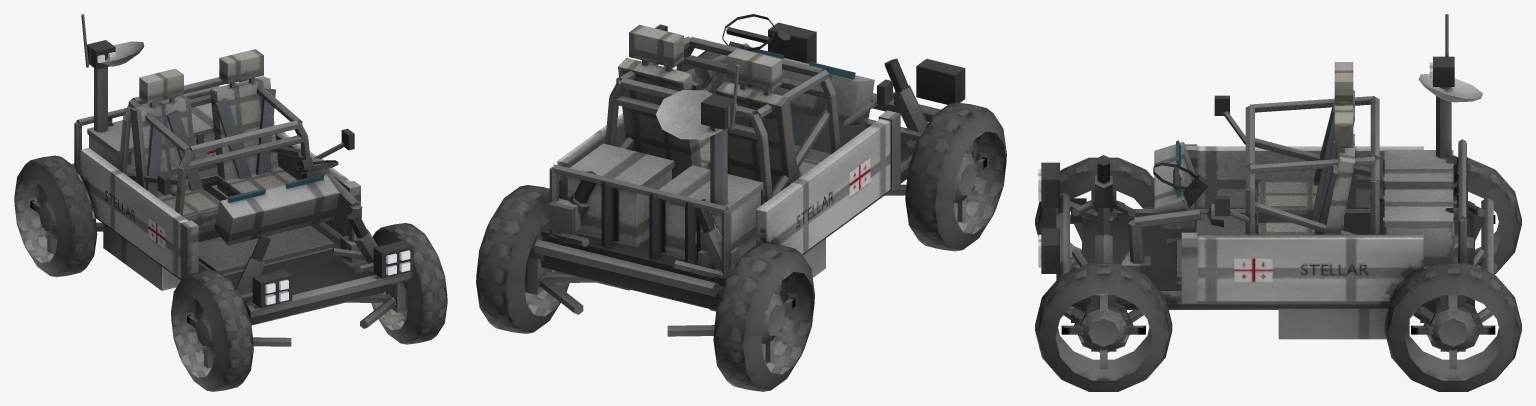
Rendered from rover.glb.
3 views of the same model, side by side, from view 1: azimuth 30°, elevation 25°; view 2: azimuth 150°, elevation 25°; view 3: azimuth 270°, elevation 25° (orthographic). The views are drawn at different scales.
Parts seen in each view (by area): view 1: Rover_Body, Wheel_RF_Mesh, Wheel_RR_Mesh, Wheel_LF_Mesh, Mast_Mesh, Arm_LF_Mesh, Arm_RF_Mesh, ToolArm_Mesh, ToolFore_Mesh, Steer_LF_Mesh; view 2: Rover_Body, Wheel_RR_Mesh, Wheel_RF_Mesh, Wheel_LR_Mesh, Mast_Mesh, Arm_RR_Mesh, Arm_LR_Mesh, Arm_RF_Mesh, Steer_LR_Mesh, ToolFore_Mesh; view 3: Rover_Body, Wheel_LF_Mesh, Wheel_LR_Mesh, Wheel_RF_Mesh, Wheel_RR_Mesh, Mast_Mesh, Arm_RF_Mesh, Arm_LF_Mesh, ToolFore_Mesh, Steer_LR_Mesh, Steer_LF_Mesh, ToolArm_Mesh (+2 smaller).
Part boxes in pixels (bbox=[...]): Rover_Body: bbox=[71, 49, 413, 325]; Wheel_RF_Mesh: bbox=[171, 270, 253, 391]; Wheel_RR_Mesh: bbox=[14, 155, 97, 277]; Wheel_LF_Mesh: bbox=[371, 223, 447, 344]; Mast_Mesh: bbox=[81, 14, 144, 131]; Arm_LF_Mesh: bbox=[332, 212, 395, 328]; Arm_RF_Mesh: bbox=[235, 234, 291, 346]; ToolArm_Mesh: bbox=[340, 205, 365, 263]; ToolFore_Mesh: bbox=[312, 158, 359, 207]; Steer_LF_Mesh: bbox=[386, 280, 408, 312]; Rover_Body: bbox=[534, 14, 965, 311]; Wheel_RR_Mesh: bbox=[713, 243, 814, 391]; Wheel_RF_Mesh: bbox=[905, 102, 1006, 251]; Wheel_LR_Mesh: bbox=[476, 185, 569, 333]; Mast_Mesh: bbox=[655, 64, 739, 205]; Arm_RR_Mesh: bbox=[667, 199, 736, 336]; Arm_LR_Mesh: bbox=[539, 171, 600, 314]; Arm_RF_Mesh: bbox=[865, 58, 928, 195]; Steer_LR_Mesh: bbox=[524, 220, 551, 295]; ToolFore_Mesh: bbox=[686, 43, 750, 89]; Rover_Body: bbox=[1038, 62, 1493, 339]; Wheel_LF_Mesh: bbox=[1035, 263, 1172, 391]; Wheel_LR_Mesh: bbox=[1384, 263, 1521, 391]; Wheel_RF_Mesh: bbox=[1035, 157, 1154, 271]; Wheel_RR_Mesh: bbox=[1468, 157, 1521, 274]; Mast_Mesh: bbox=[1418, 14, 1482, 158]; Arm_RF_Mesh: bbox=[1070, 155, 1135, 270]; Arm_LF_Mesh: bbox=[1064, 208, 1143, 322]; ToolFore_Mesh: bbox=[1134, 203, 1223, 227]; Steer_LR_Mesh: bbox=[1420, 295, 1482, 352]; Steer_LF_Mesh: bbox=[1071, 295, 1133, 352]; ToolArm_Mesh: bbox=[1125, 220, 1150, 279].
Bounding box in the file's own units: 1.92 × 1.99 × 3.12.
2 materials, 2 textured.
